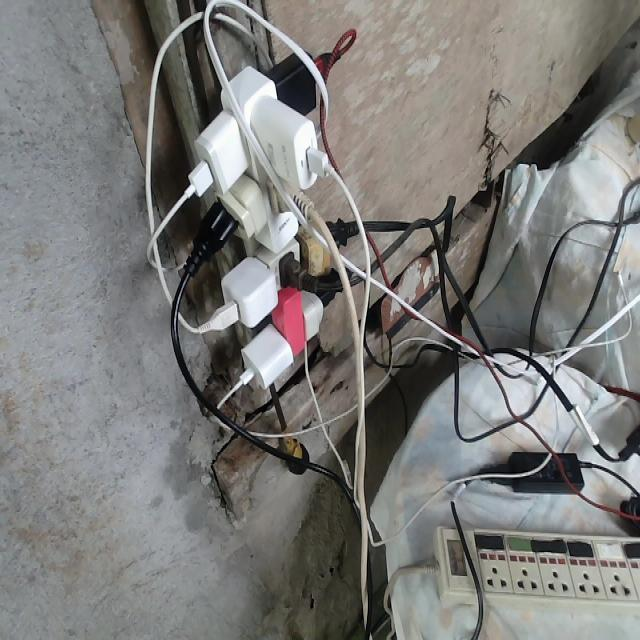-: (176, 28, 357, 393)
